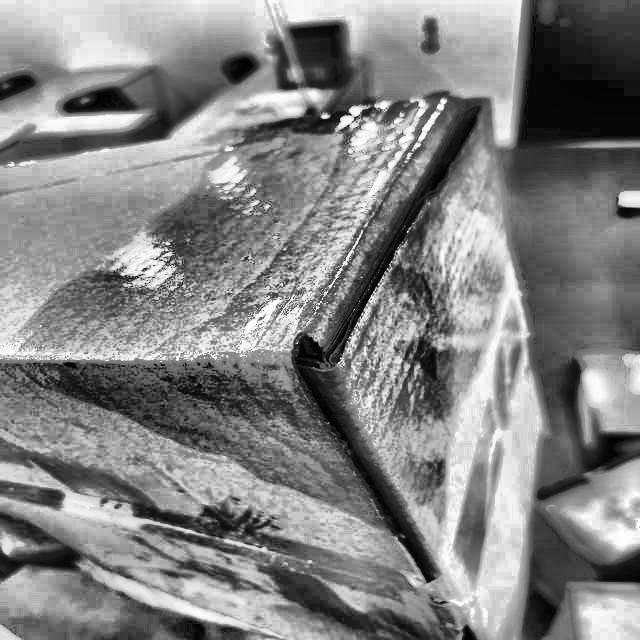box: (0, 85, 573, 640)
wet: (80, 91, 528, 539)
